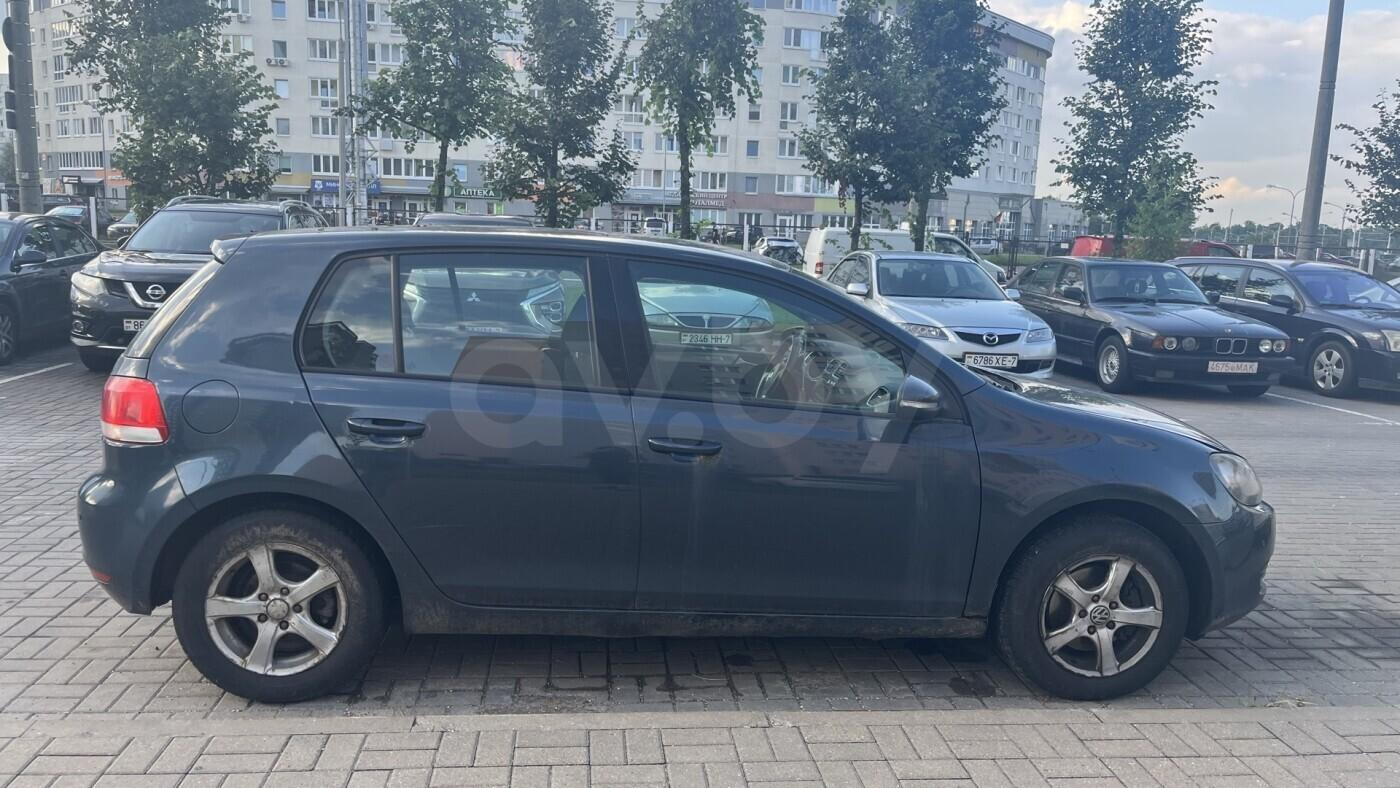Golf_2008-2013: (73, 222, 1286, 701)
